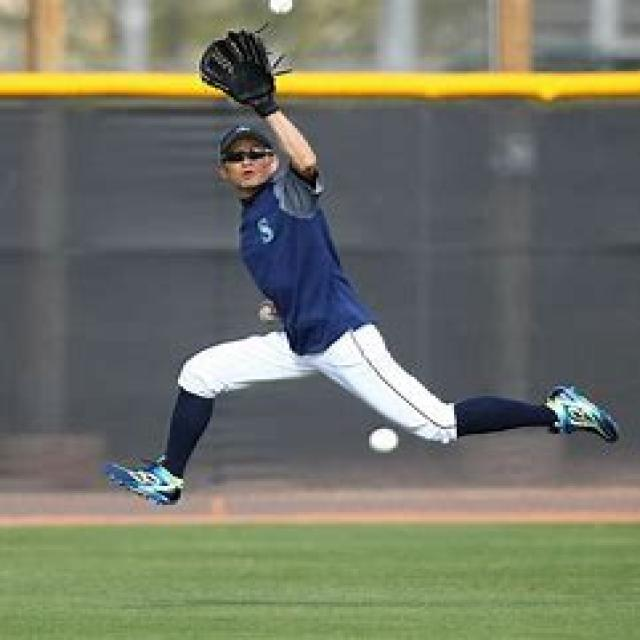ball: (367, 426, 399, 454)
glove: (192, 19, 295, 108)
